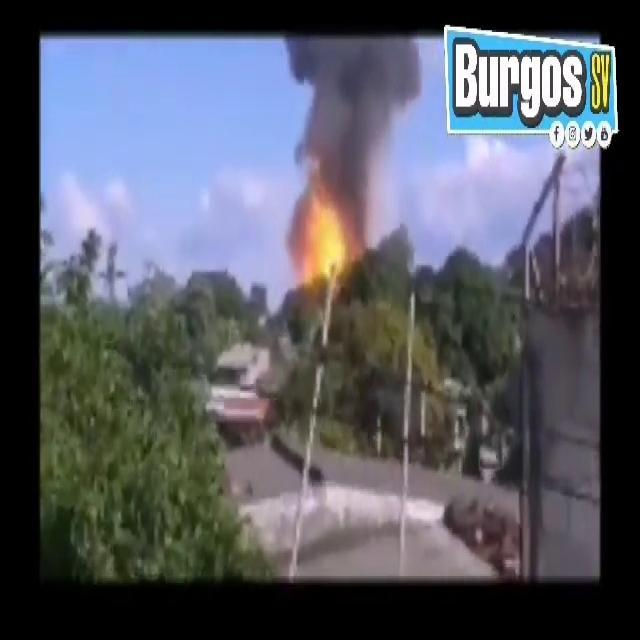Fire: (292, 174, 355, 274)
Smoke: (282, 42, 435, 200)
